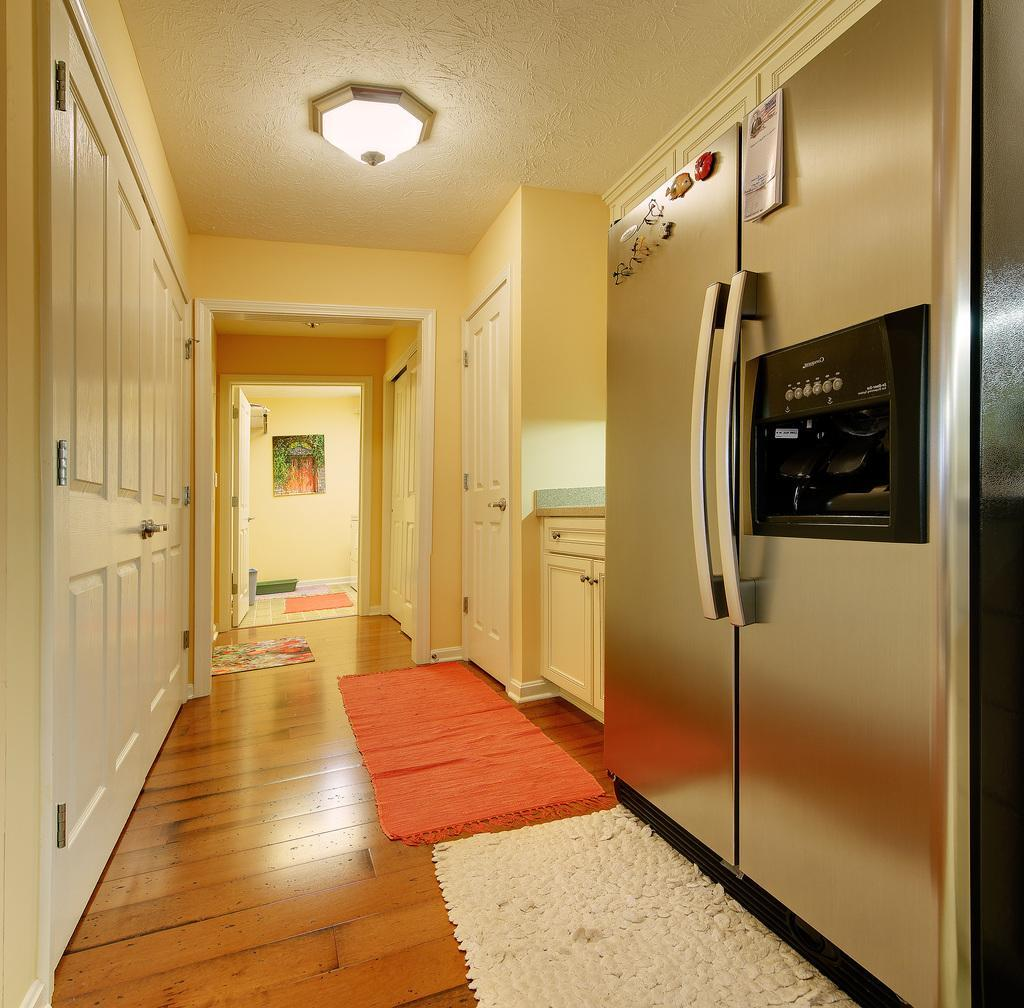door: (62, 200, 150, 838), (144, 308, 186, 717), (469, 303, 505, 660), (389, 357, 418, 634), (234, 410, 254, 613)
handle: (716, 276, 770, 621), (689, 283, 731, 613), (142, 520, 166, 548), (486, 494, 504, 516), (580, 570, 590, 585), (550, 529, 562, 541), (589, 575, 599, 586)
